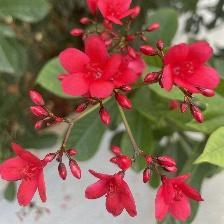jatropha: (59, 36, 128, 102)
